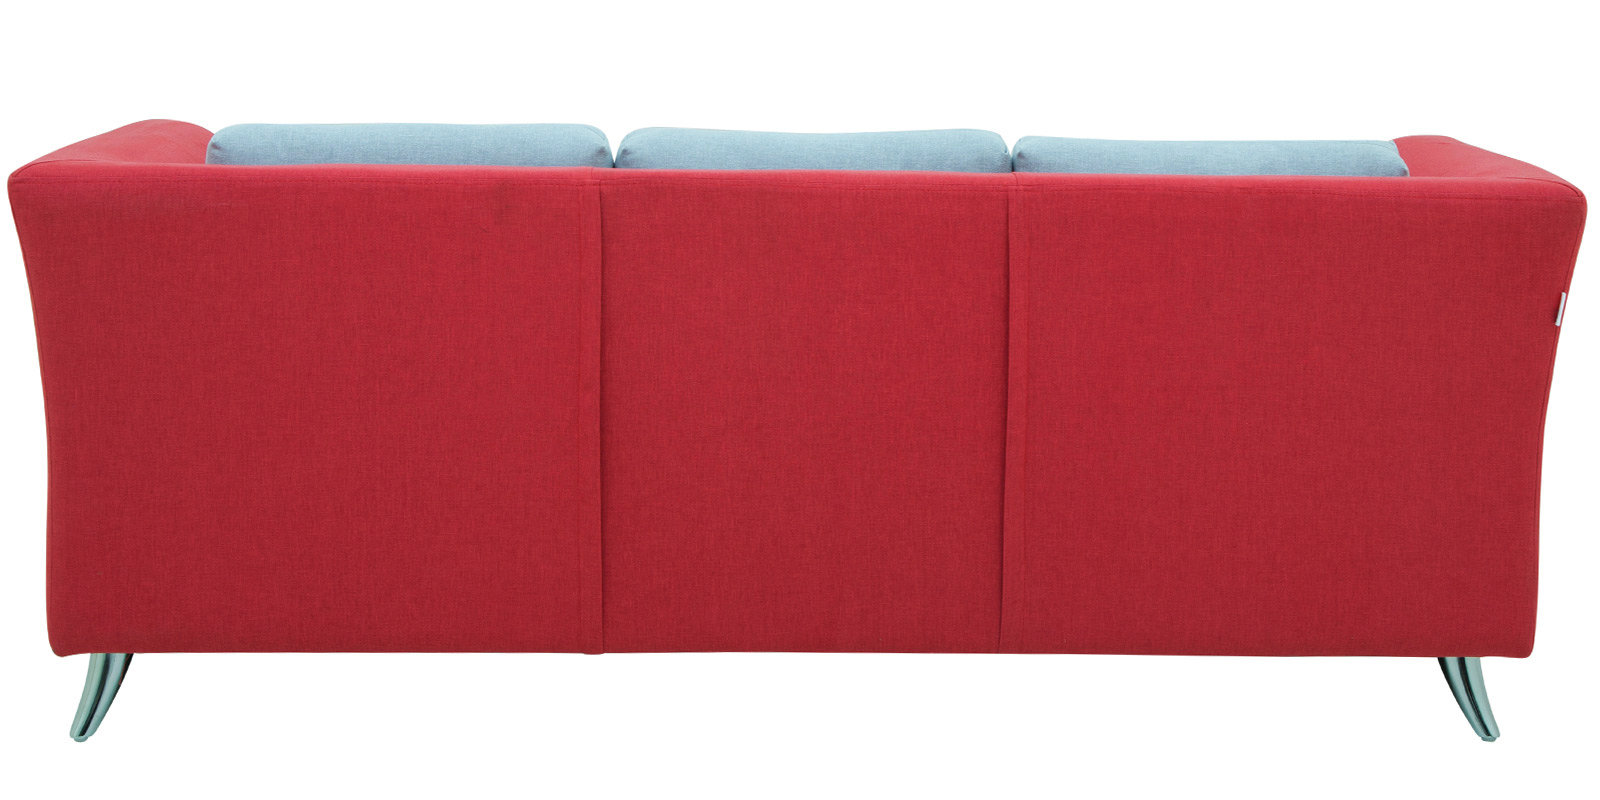Iowa Three Seater Sofa in Crimson Red Colour by Furnitech: (3, 89, 1595, 789)
